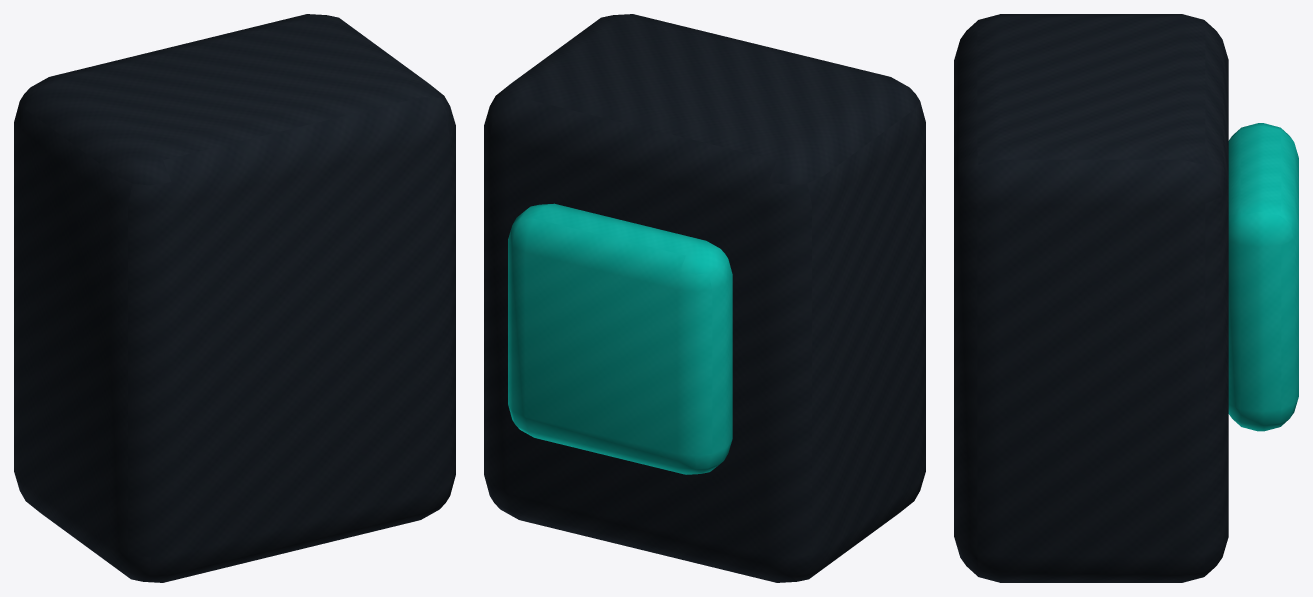
Rendered from Beacon.fbx.
3 views of the same model, side by side, from view 1: azimuth 30°, elevation 25°; view 2: azimuth 150°, elevation 25°; view 3: azimuth 270°, elevation 25° (orthographic).
Parts seen in each view (by area): view 1: Beacon; view 2: Beacon; view 3: Beacon.
Part boxes in pixels (<box>): Beacon: <box>14,14,455,582</box>; Beacon: <box>484,14,925,582</box>; Beacon: <box>954,14,1298,582</box>.
Size of the model in its own units: 6.7 by 5.9 by 8.2.
